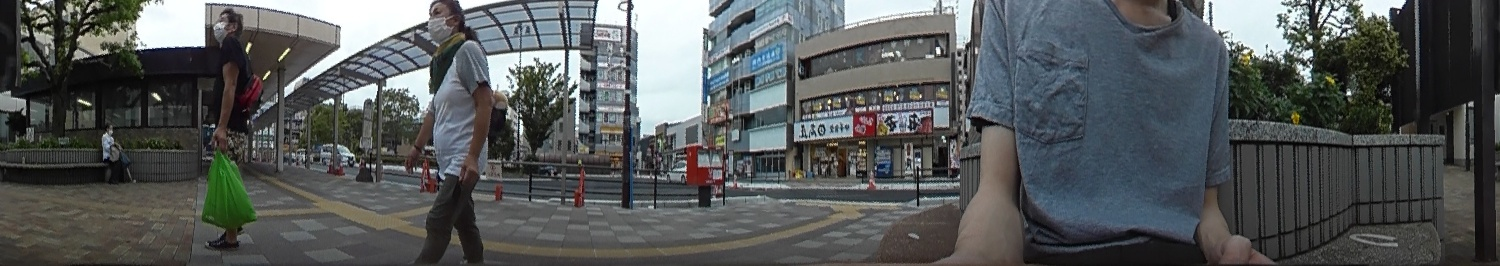person: (415, 0, 490, 266), (201, 4, 261, 244), (100, 123, 130, 182)
